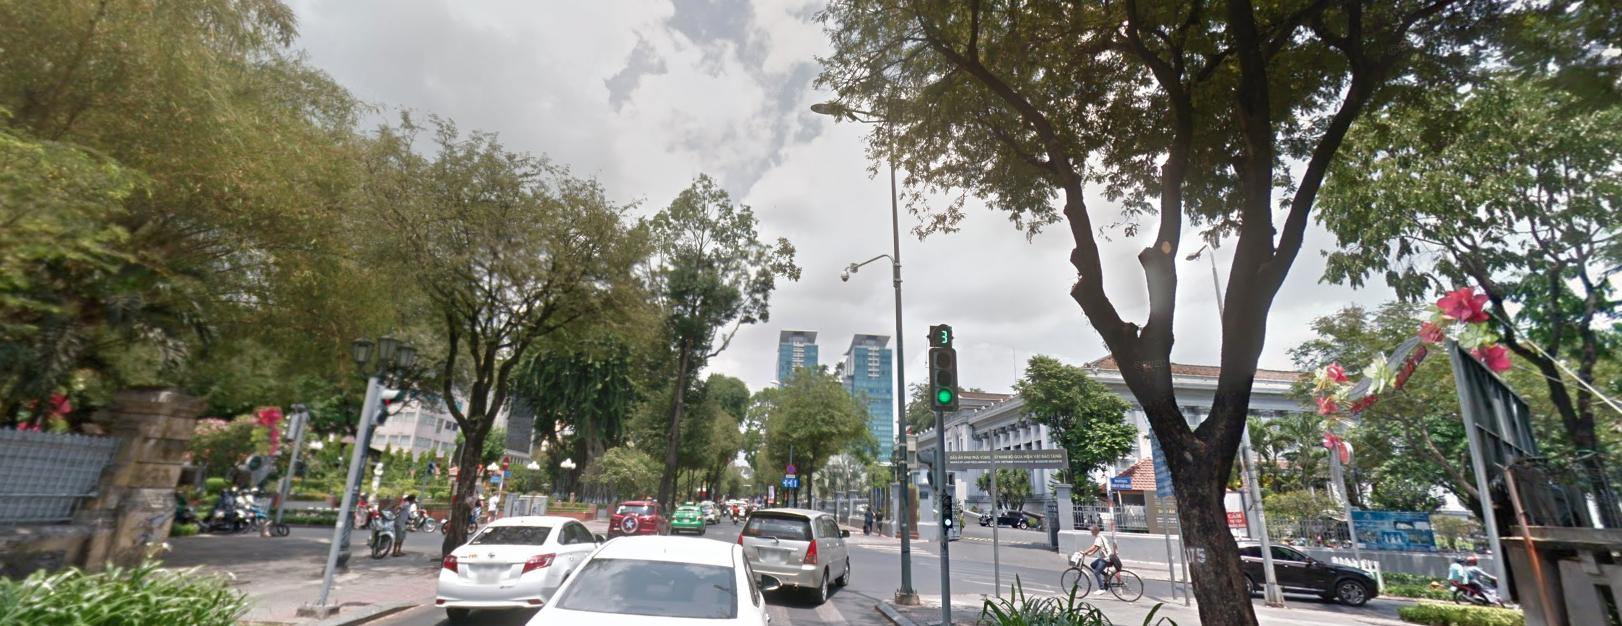Cam dung va do: (786, 463, 797, 472)
Cam nguoc chieu: (501, 455, 510, 467)
